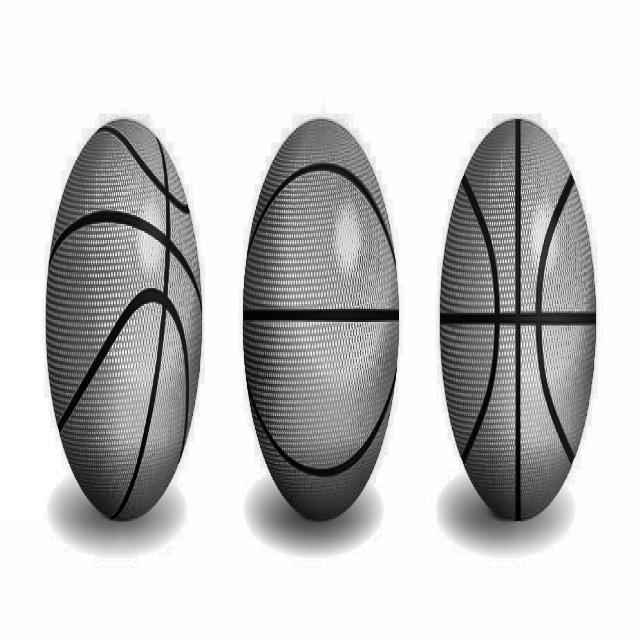Basketball: (45, 117, 202, 520), (243, 117, 399, 520), (442, 119, 596, 518)
